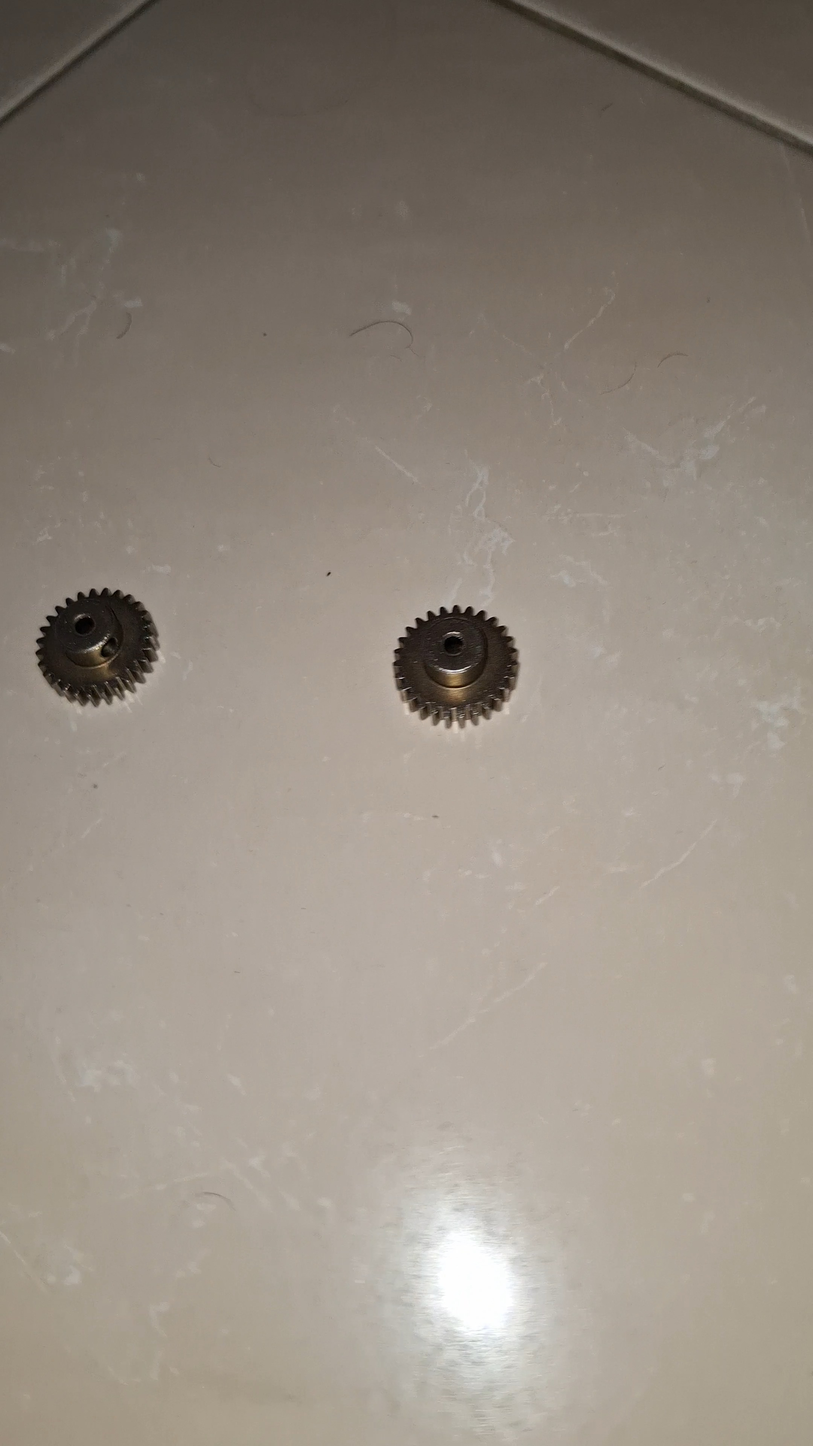spur gear: (394, 605, 518, 724), (37, 589, 157, 705)
